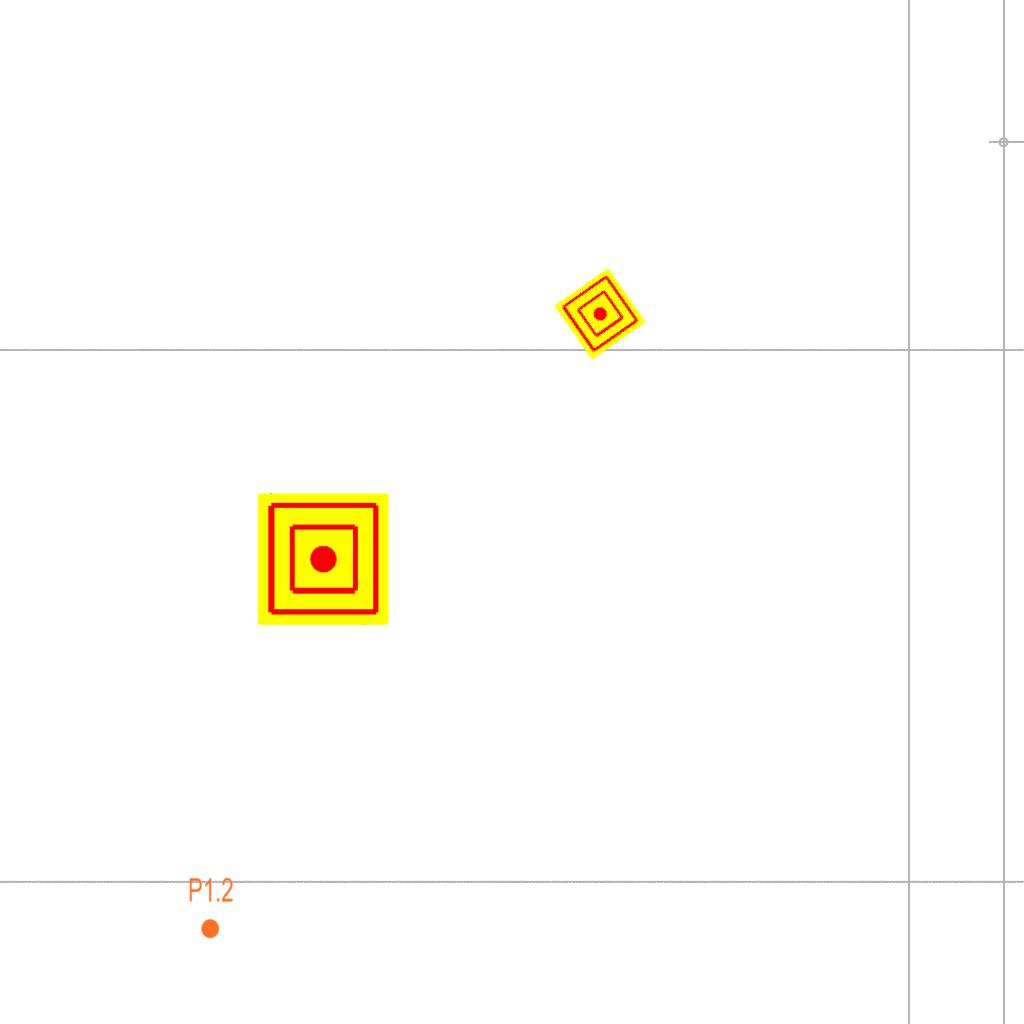Downlight_LED_Einbauleuchten_Flur: (188, 876, 234, 940)
NAM-Nichtautomatischer_Melder: (257, 493, 389, 625), (554, 268, 646, 360)
